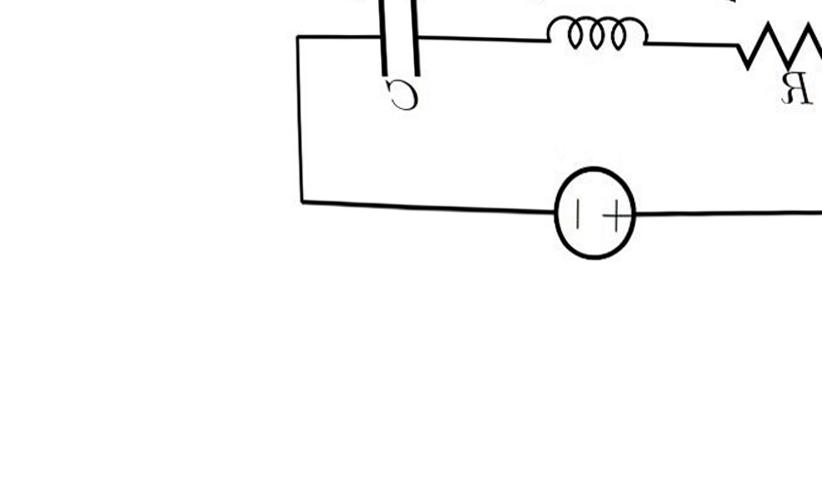Battery: (526, 146, 662, 292)
